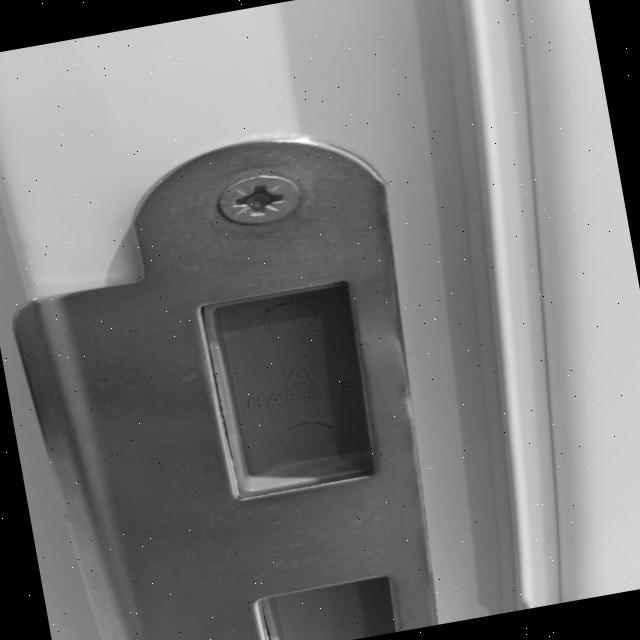Pozidriv: (200, 163, 316, 243)
